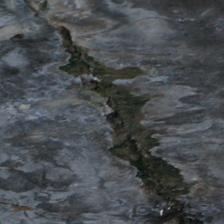Crack: (28, 17, 154, 193)
